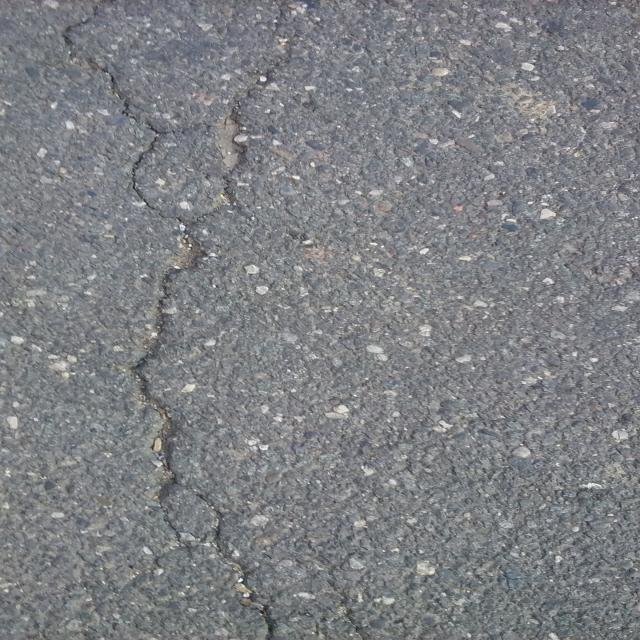Longitudial: (65, 4, 430, 640)
